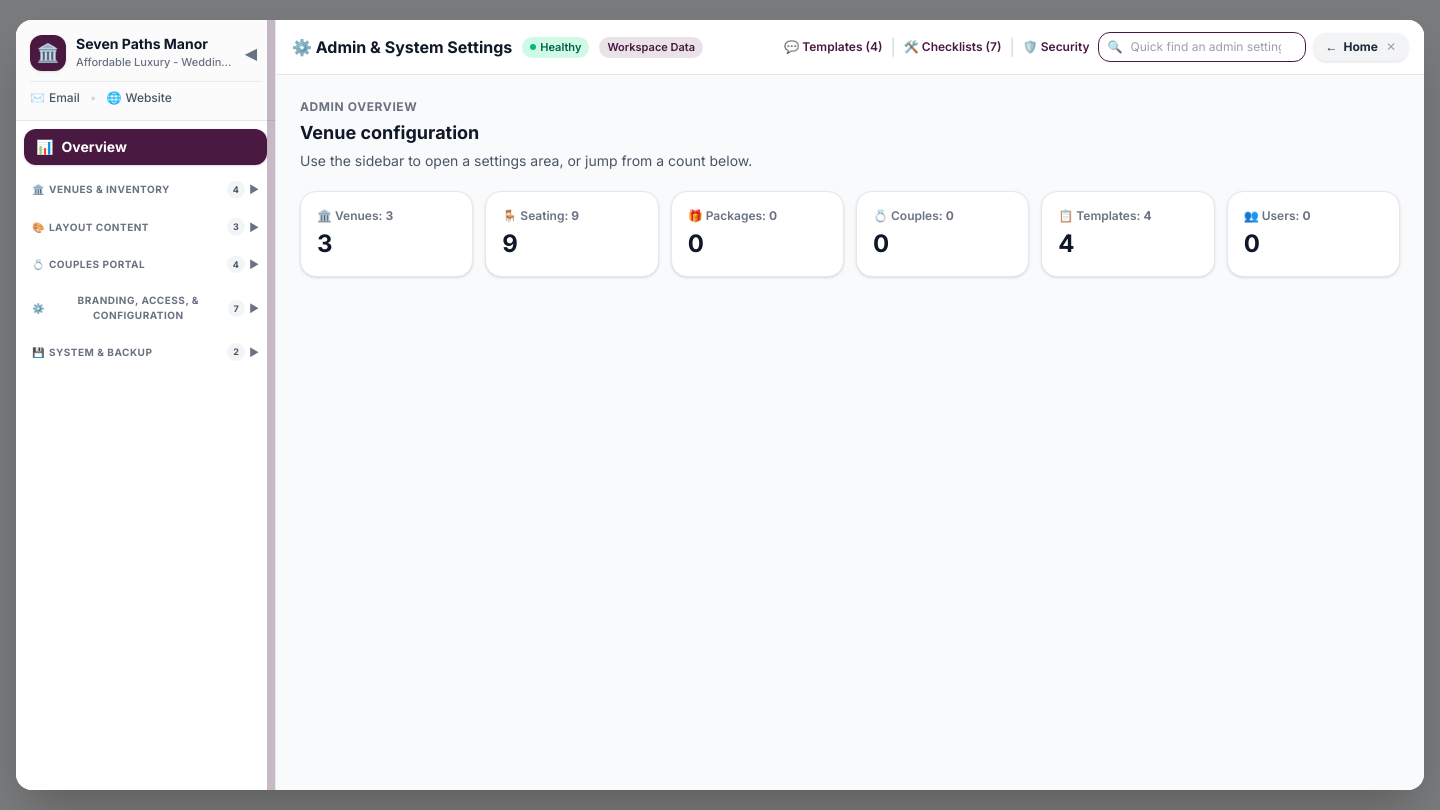
Test: AdminPanel Fixtures default-collapsed behavior › shows section headers collapsed by default and expands each section on demand
Click the button "🏛️ Venues & Inventory 4 ▶".
click(146, 190)  # box [24,177,267,202]
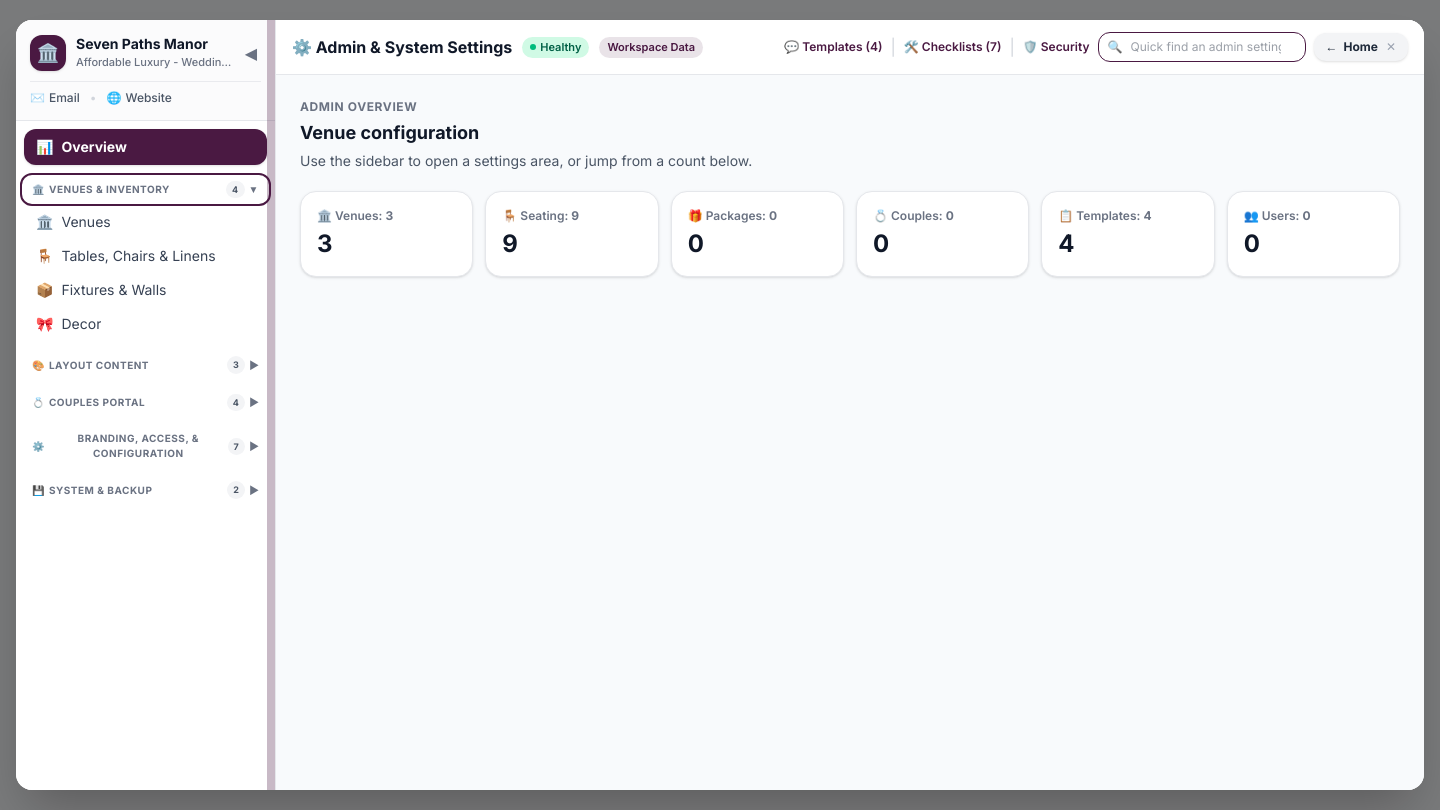
Click the button "📦 Fixtures & Walls".
click(146, 290)  # box [24,274,267,306]
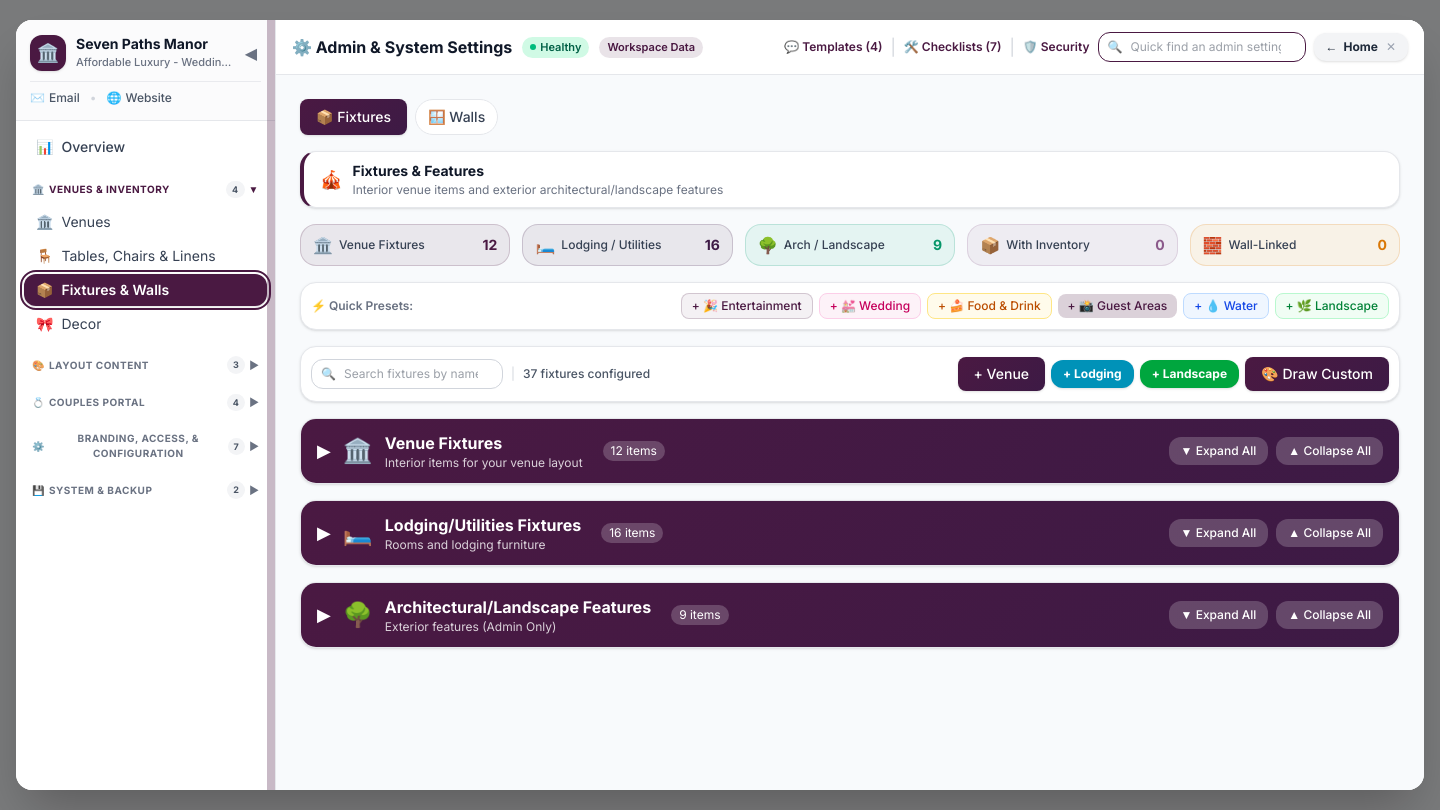
Expected: the text "Fountain" is not shown
Note: Click on section header to expand
Click the heading "Venue Fixtures".
click(444, 443)  # box [385,433,502,453]
(page scrolled)
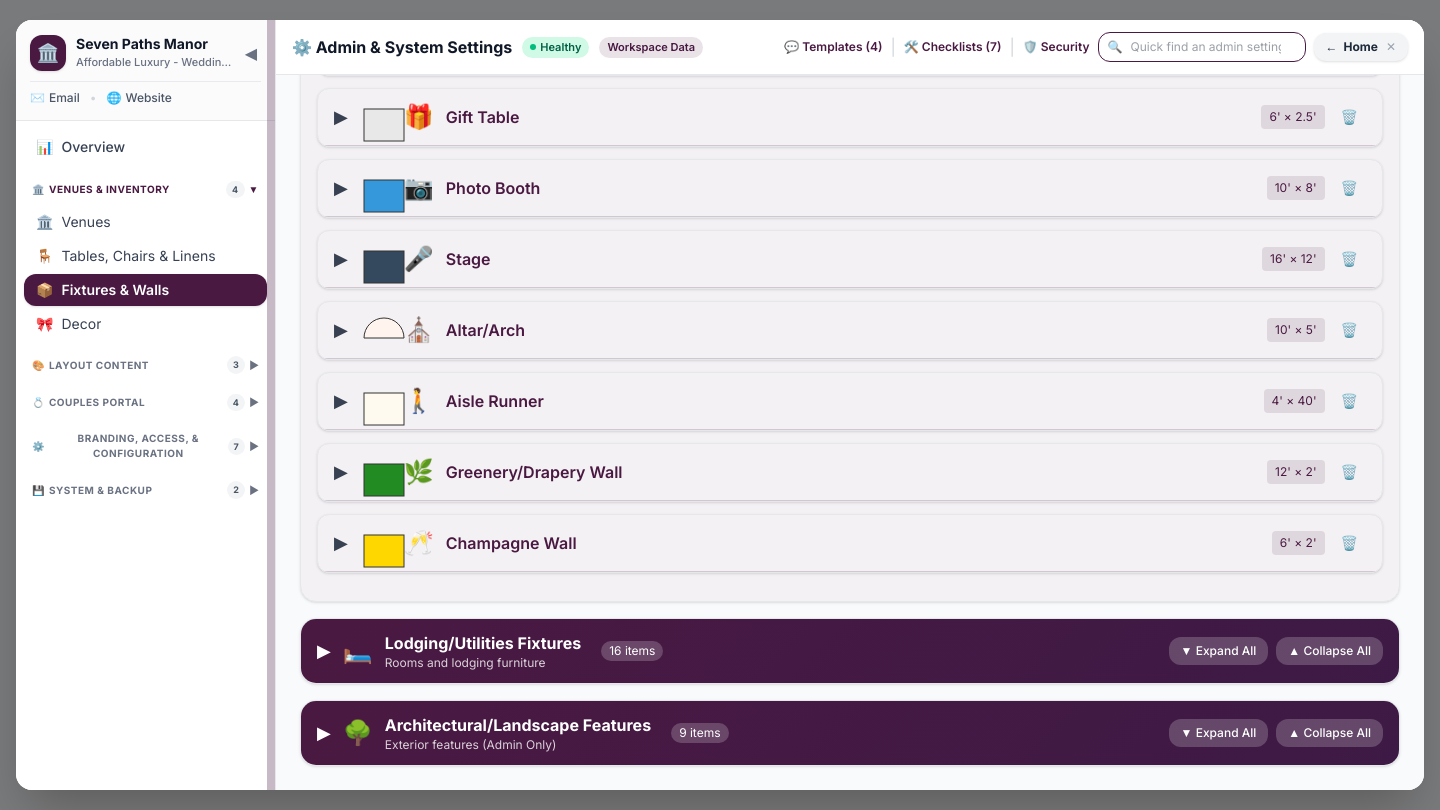
Click the heading "Lodging/Utilities Fixtures".
click(483, 643)  # box [385,631,581,655]
(page scrolled)
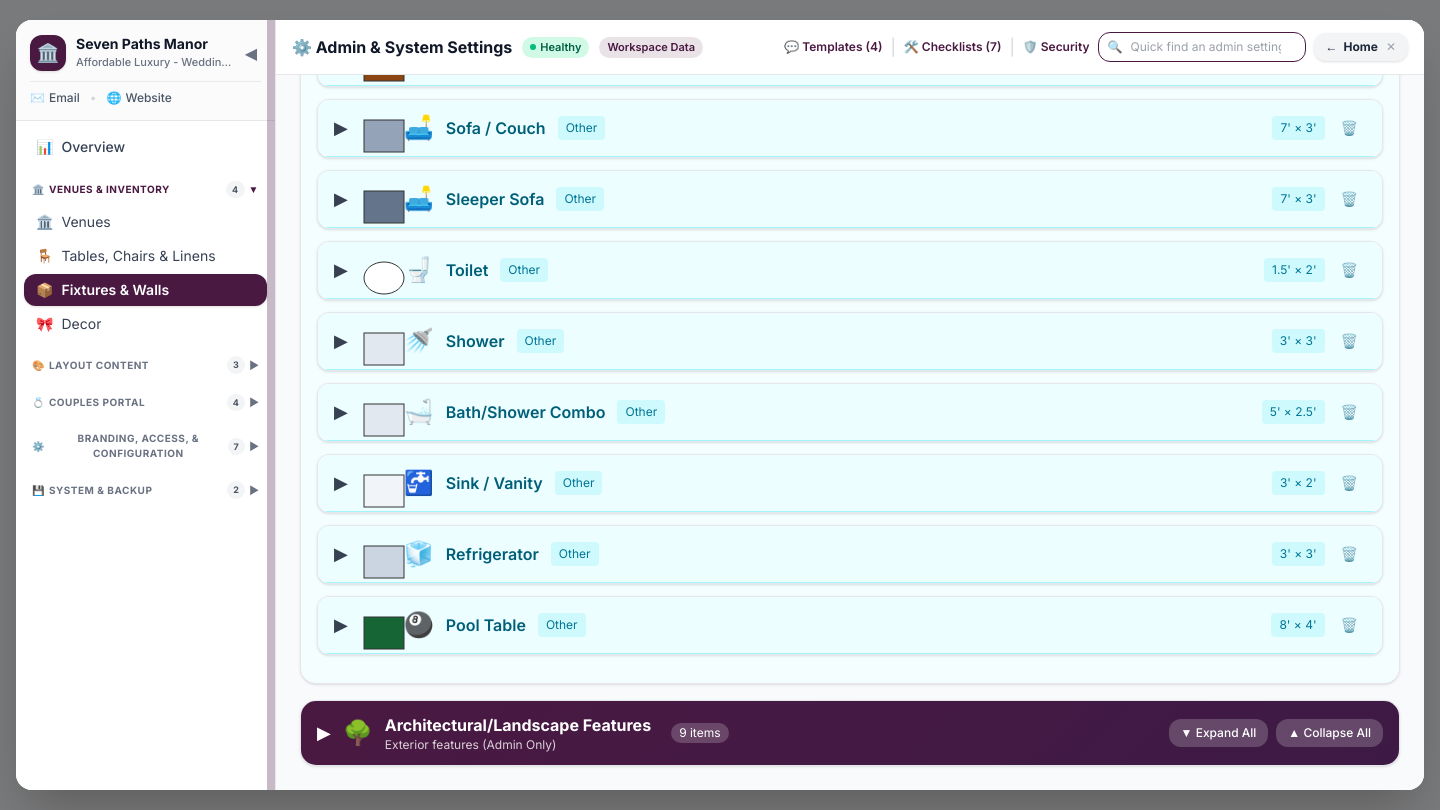
Click the heading "Architectural/Landscape Features".
click(518, 725)  # box [385,713,651,737]
(page scrolled)
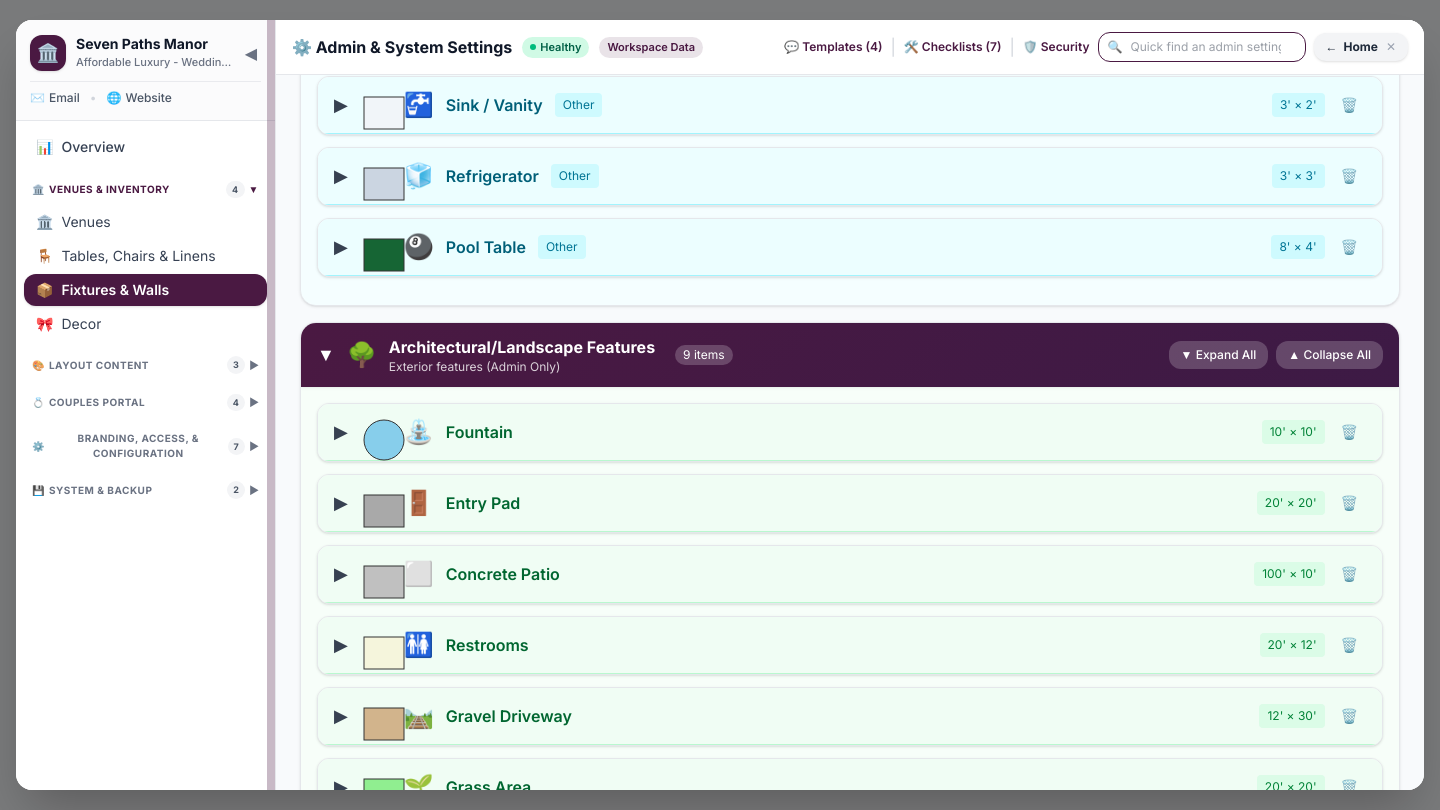
Expected: the text "Fountain" is shown, [446,420,513,444]
